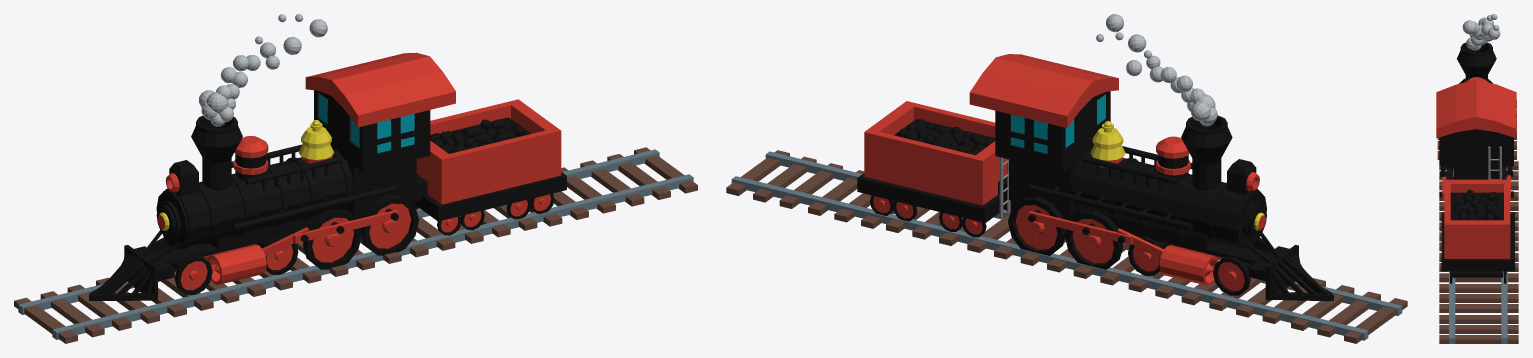
Rendered from steam_train.gltf.
The picture shows the model from 3 angles, left to right: view 1: azimuth 30°, elevation 25°; view 2: azimuth 150°, elevation 25°; view 3: azimuth 270°, elevation 25°; orthographic projection. The views are drawn at different scales.
Visible parts, largest first — view 1: node_MeshObject-352658432-PolyPaper8, node_MeshObject1603858560-PolyPaper23, node_MeshObject1348708544-PolyPaper23, node_MeshObject1891033280-PolyPaper23; view 2: node_MeshObject-352658432-PolyPaper8, node_MeshObject1348708544-PolyPaper23, node_MeshObject1603858560-PolyPaper23, node_MeshObject1891033280-PolyPaper23; view 3: node_MeshObject-352658432-PolyPaper8, node_MeshObject1603858560-PolyPaper23, node_MeshObject1348708544-PolyPaper23, node_MeshObject1891033280-PolyPaper23.
Part boxes in pixels (x1=…): node_MeshObject-352658432-PolyPaper8: x1=14, y1=55, x2=697, y2=343; node_MeshObject1603858560-PolyPaper23: x1=93, y1=55, x2=561, y2=300; node_MeshObject1348708544-PolyPaper23: x1=89, y1=14, x2=530, y2=300; node_MeshObject1891033280-PolyPaper23: x1=430, y1=119, x2=527, y2=152; node_MeshObject-352658432-PolyPaper8: x1=726, y1=55, x2=1407, y2=343; node_MeshObject1348708544-PolyPaper23: x1=879, y1=14, x2=1333, y2=301; node_MeshObject1603858560-PolyPaper23: x1=864, y1=66, x2=1329, y2=300; node_MeshObject1891033280-PolyPaper23: x1=900, y1=119, x2=985, y2=155; node_MeshObject-352658432-PolyPaper8: x1=1437, y1=17, x2=1518, y2=343; node_MeshObject1603858560-PolyPaper23: x1=1439, y1=23, x2=1513, y2=283; node_MeshObject1348708544-PolyPaper23: x1=1436, y1=14, x2=1516, y2=277; node_MeshObject1891033280-PolyPaper23: x1=1454, y1=191, x2=1500, y2=220.
Size of the model in its own units: 3.57 by 1.31 by 0.5189.
